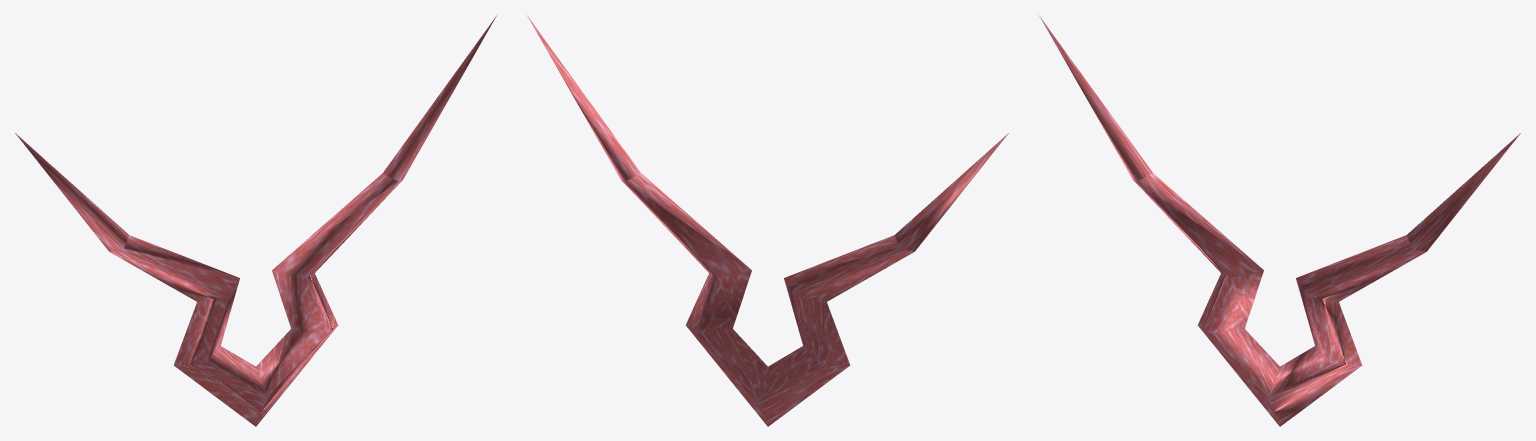
Rendered from ICON.ICO.obj.
3 renders of one model, left to right at view 1: azimuth 30°, elevation 25°; view 2: azimuth 150°, elevation 25°; view 3: azimuth 330°, elevation 25°, orthographic.
Size of the model in its own units: 4.73 by 3.31 by 0.3643.
Materials: 1 (1 with a texture image).
